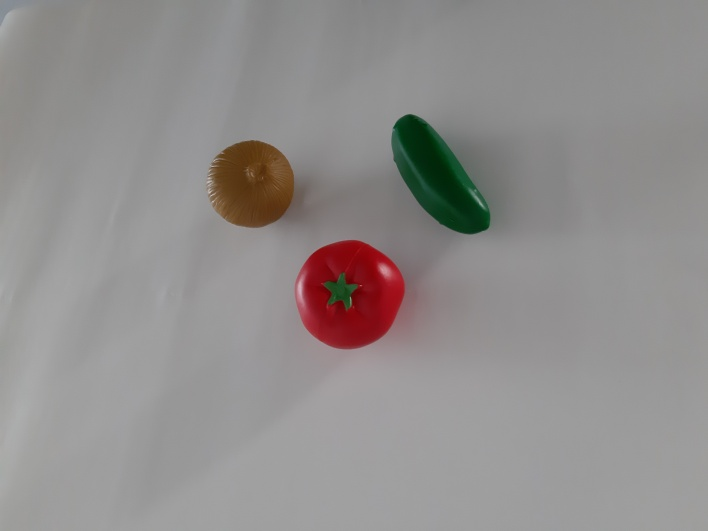cucumber: (380, 106, 510, 245)
onion: (193, 128, 306, 241)
tomato: (286, 236, 412, 364)
